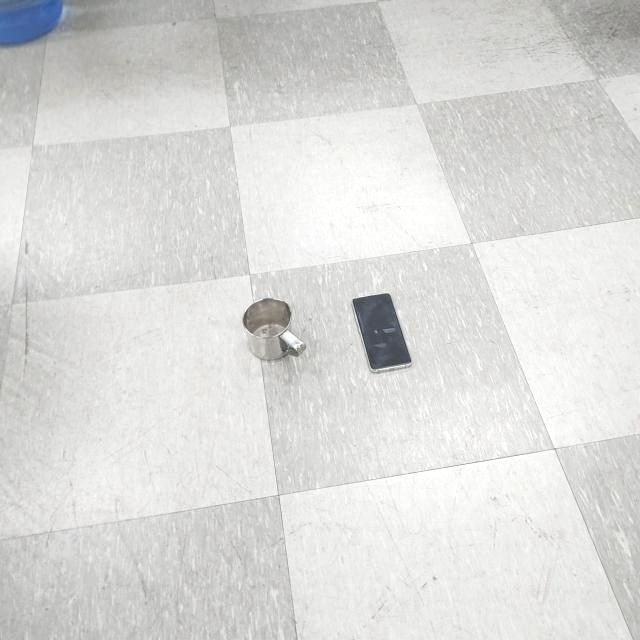cup: (243, 297, 306, 363)
phone: (352, 291, 411, 375)
